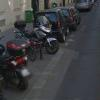Motorcycle: (7, 15, 66, 58)
